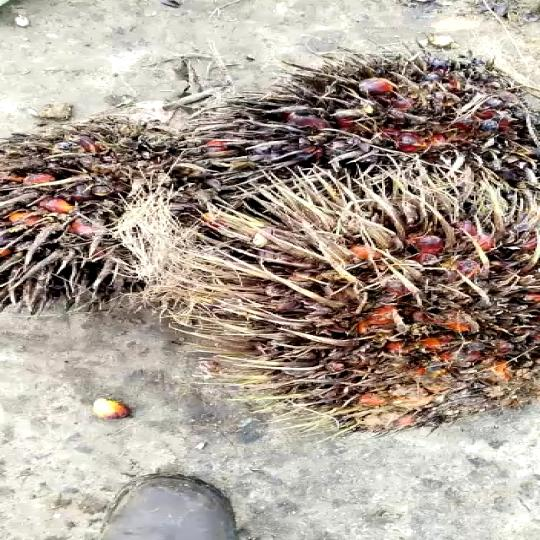terlalu masak: (164, 164, 534, 434), (204, 52, 540, 192), (0, 113, 253, 298)
